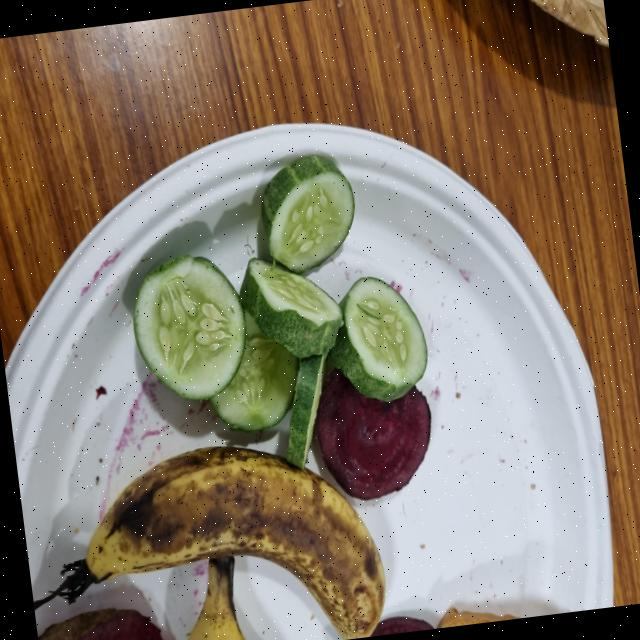banana: (75, 443, 385, 640)
beet: (310, 357, 431, 498)
cucumber: (130, 251, 245, 398), (324, 272, 428, 398), (253, 151, 355, 273), (237, 254, 342, 357), (207, 311, 293, 433), (280, 349, 331, 480)
